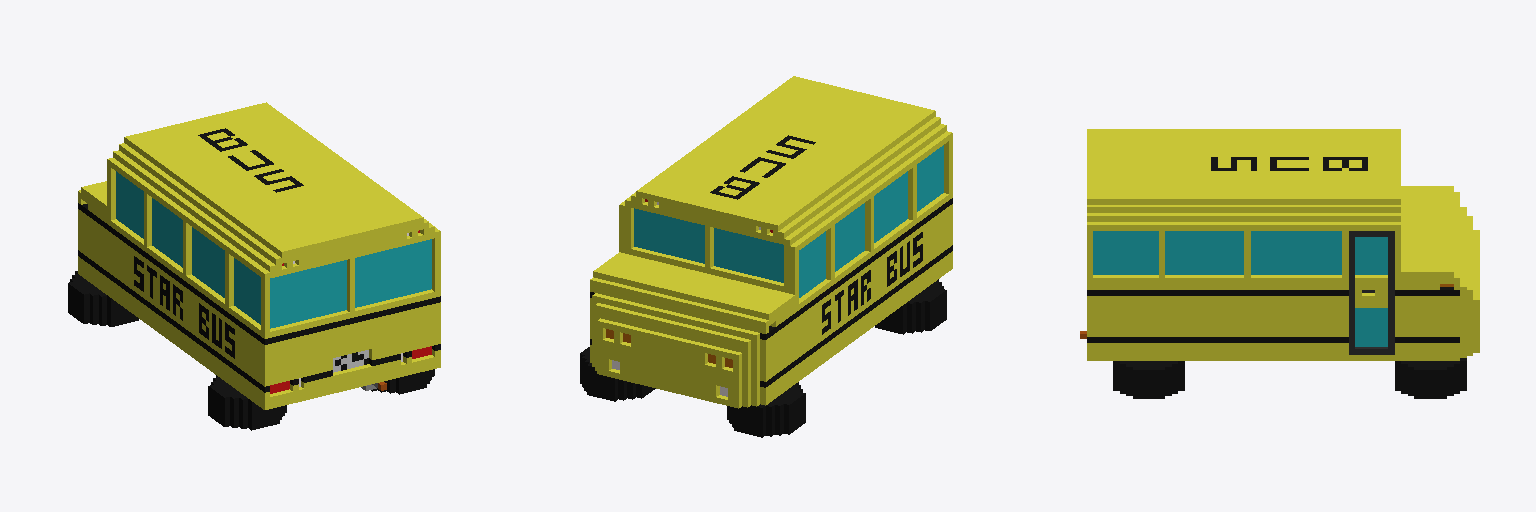
The picture shows the model from 3 angles: view 1: azimuth 30°, elevation 25°; view 2: azimuth 150°, elevation 25°; view 3: azimuth 270°, elevation 25°; orthographic projection.
Visible parts, largest first — view 1: object 1; view 2: object 1; view 3: object 1.
Part boxes in pixels (bbox=[...]): object 1: bbox=[68, 102, 440, 430]; object 1: bbox=[580, 76, 952, 437]; object 1: bbox=[1080, 129, 1479, 398].
Size of the model in its own units: 3.7 by 3.1 by 6.1.
1 materials, 1 textured.